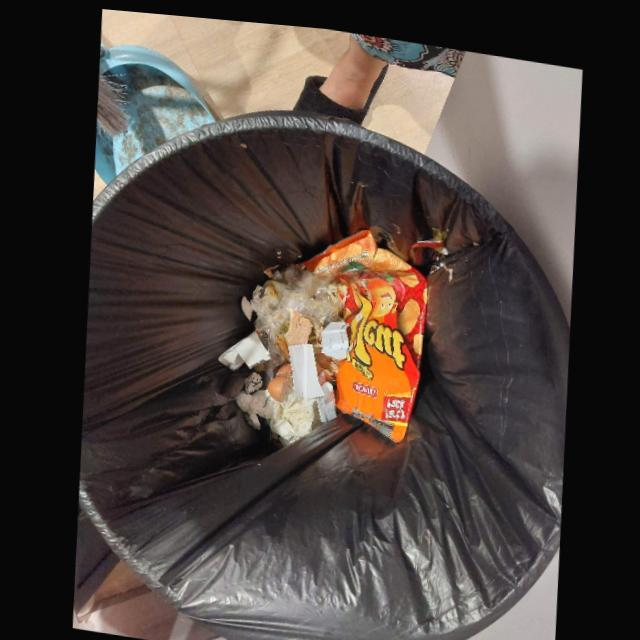biowaste: (266, 370, 290, 397), (274, 358, 290, 371)
paper: (234, 384, 312, 433), (287, 338, 335, 416)
wrapper: (303, 223, 426, 434)
